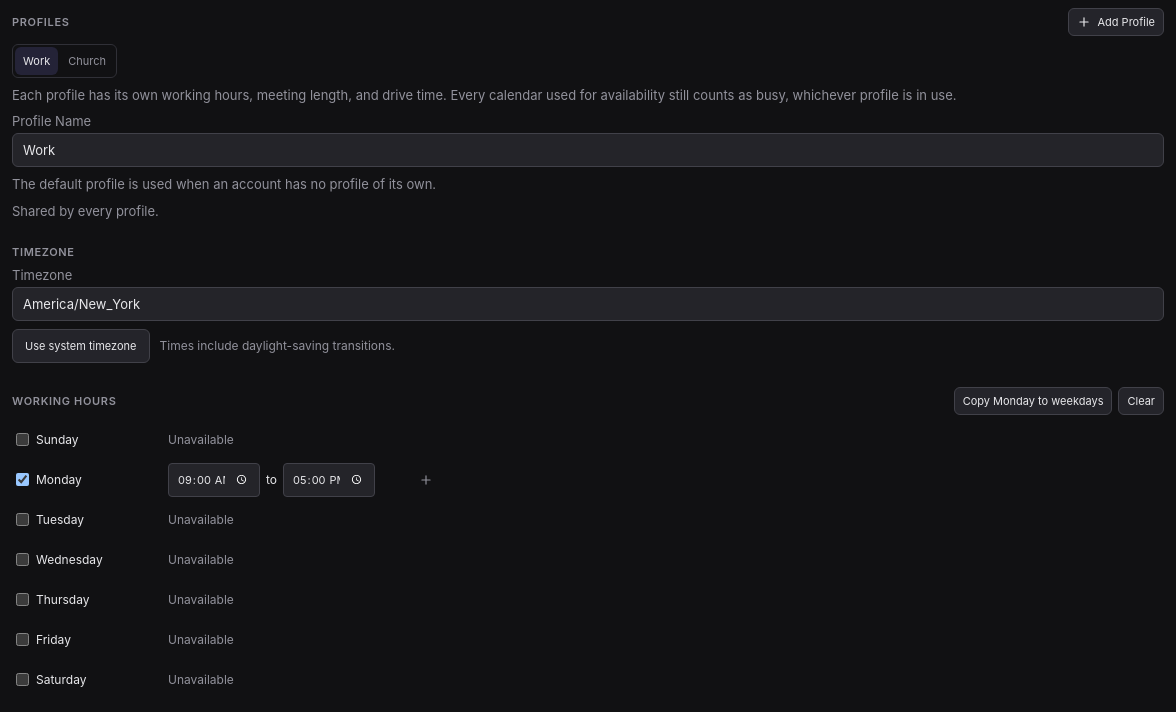
Scenario: AvailabilitySettings profiles › makes another profile the default, which every account without its own profile then uses
This screenshot has width=1176, height=712.
Step 1. Click the button "Church" → (87, 61), box left=60, top=47, right=114, bottom=75
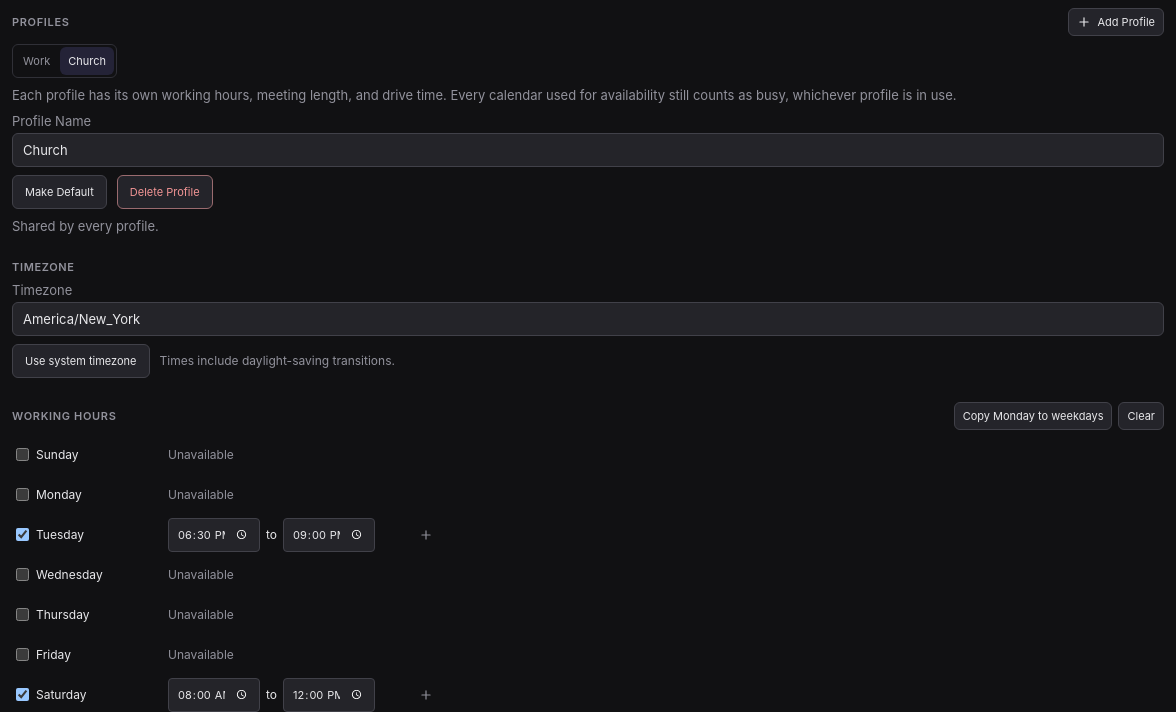
Step 2. Click the button "Make Default" → (59, 192), box left=12, top=175, right=107, bottom=209
(page scrolled)
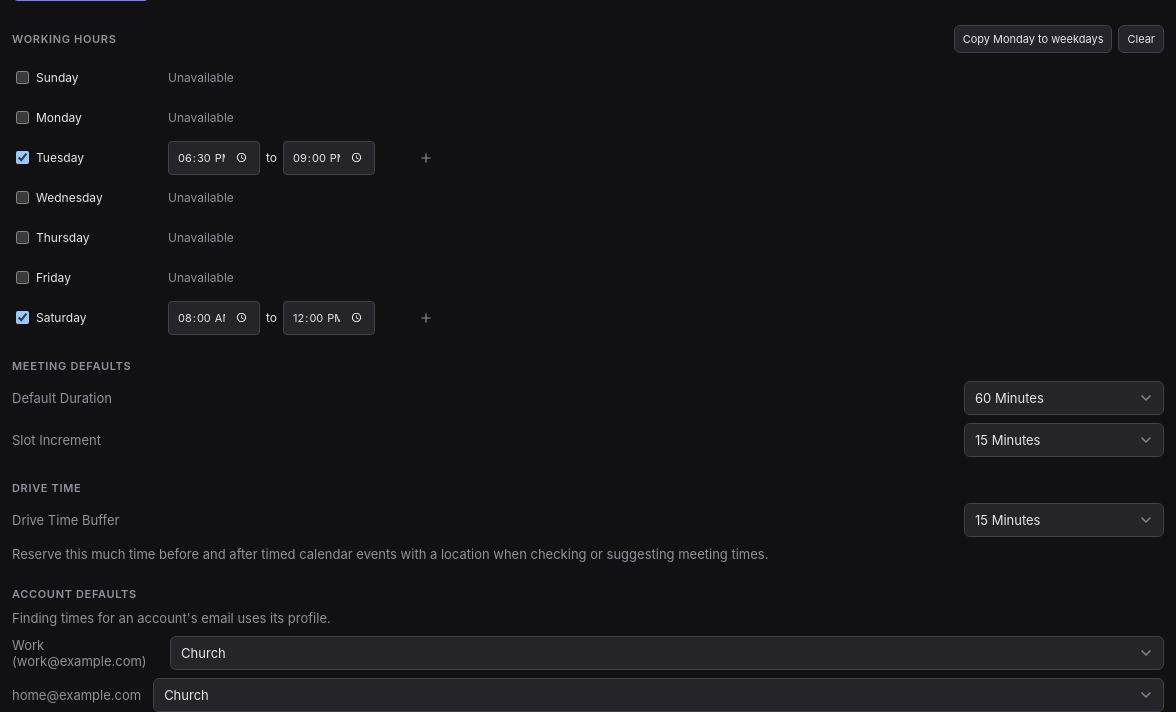
Expected: the dropdown labelled "home@example.com" shows "Church", left=153, top=678, right=1164, bottom=711
Now the dropdown labelled "Work (work@example.com)" shows "Church", box left=170, top=636, right=1164, bottom=670
